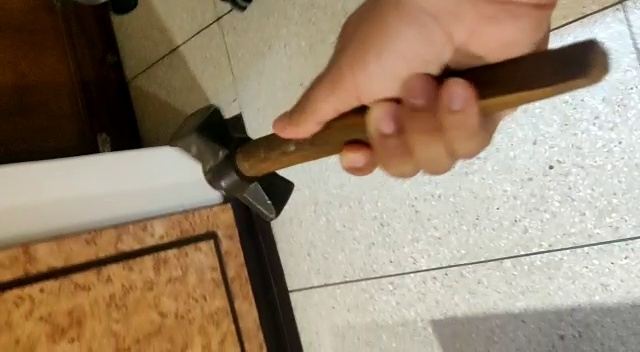hammer: (166, 36, 607, 222)
